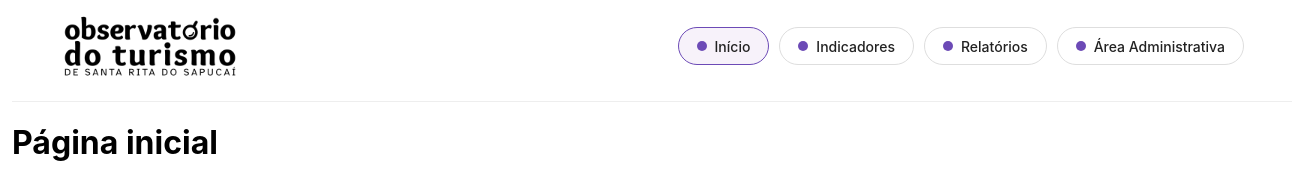
Header › permite acessar o dashboard administrativo sem remover a sessão
Click the link "Área Administrativa": [1150, 46] box [1057, 27, 1244, 65]
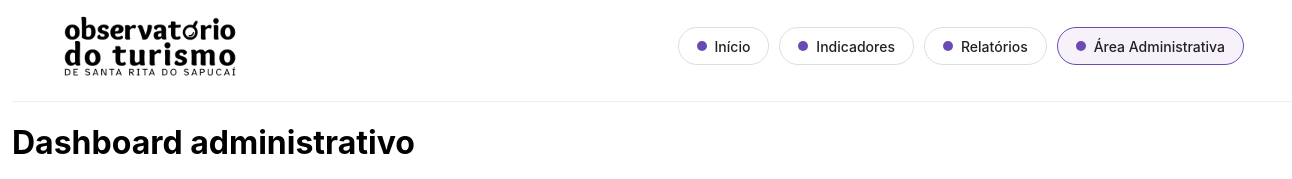
Now the heading "Dashboard administrativo" is shown, box [12, 123, 415, 162]
